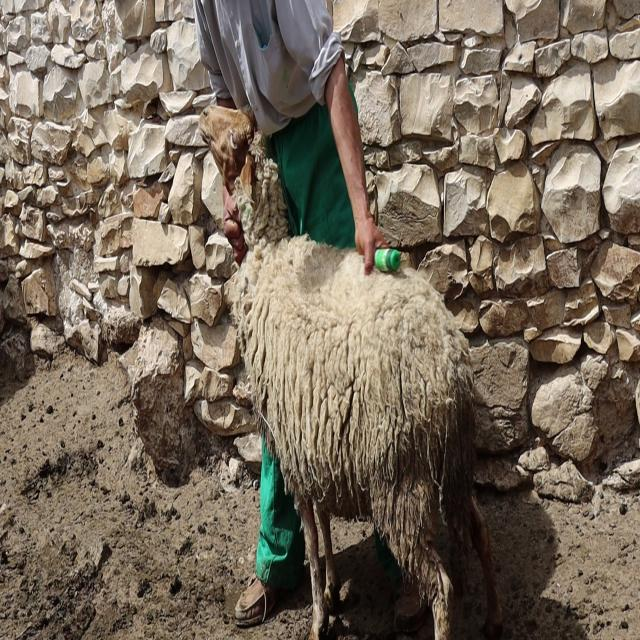Score_3: (199, 105, 502, 639)
